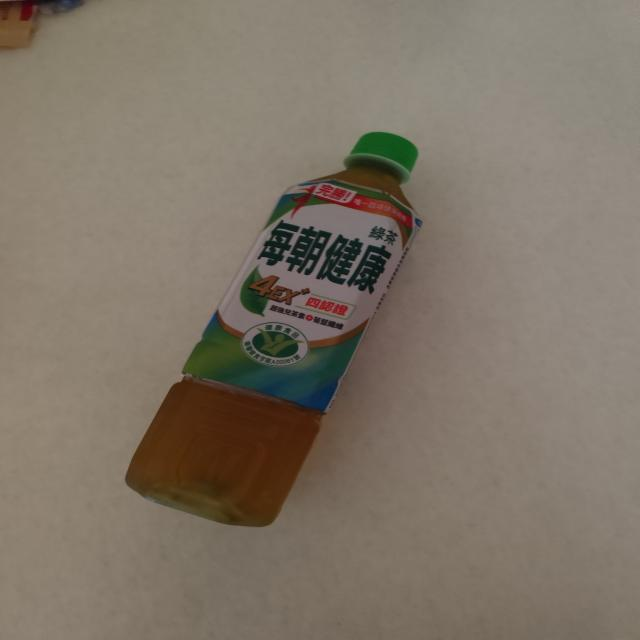MeiChou_GreenTea: (104, 105, 472, 547)
